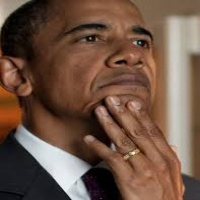ring: (94, 102, 130, 164)
